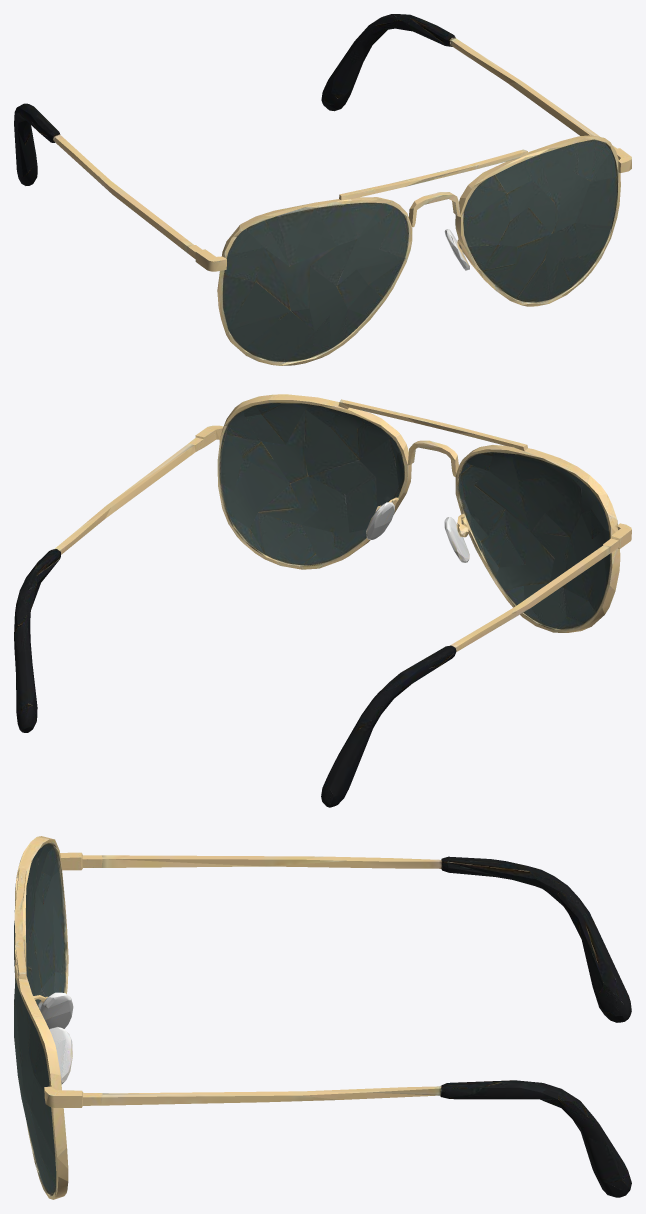
Rendered from aviators.glb.
3 views of the same model, one above another, from view 1: azimuth 30°, elevation 25°; view 2: azimuth 150°, elevation 25°; view 3: azimuth 270°, elevation 25° (orthographic). The views are drawn at different scales.
Bounding box in the file's own units: 1.77 × 0.6698 × 1.9.
Materials: 1 (1 with a texture image).
